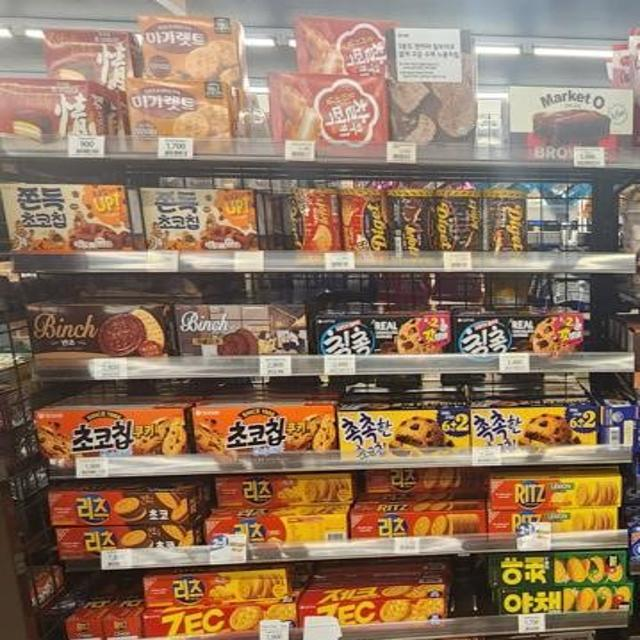product: (4, 182, 129, 255), (503, 82, 630, 152), (274, 73, 389, 145), (34, 407, 190, 459), (197, 401, 340, 457), (142, 182, 251, 255), (129, 79, 233, 152), (29, 306, 169, 359), (179, 304, 312, 353), (341, 408, 472, 457), (317, 311, 452, 358), (47, 486, 193, 526), (469, 410, 603, 451), (461, 313, 586, 353), (501, 552, 621, 589), (503, 589, 635, 622), (218, 472, 353, 504), (206, 512, 345, 542)
